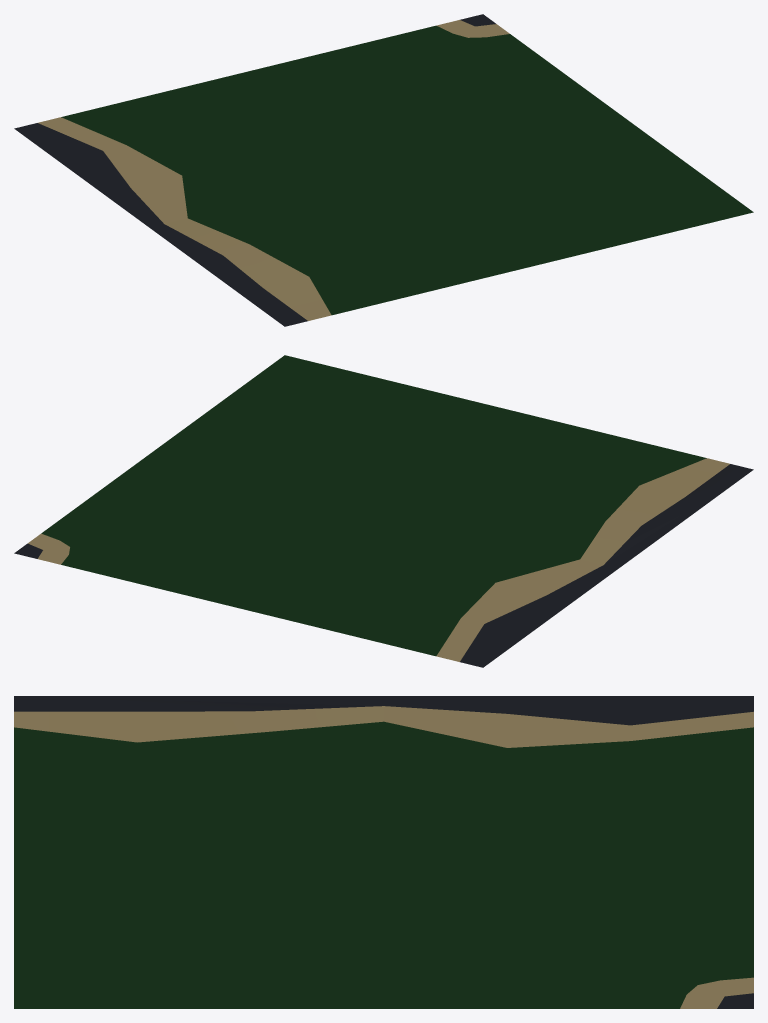
The model's file is terrain_plain_shore_intersect1.fbx.
3 renders of one model, top to bottom at view 1: azimuth 30°, elevation 25°; view 2: azimuth 150°, elevation 25°; view 3: azimuth 270°, elevation 25°, orthographic. The views are drawn at different scales.
Visible parts, largest first — view 1: terrain_plain_shore_intersect1; view 2: terrain_plain_shore_intersect1; view 3: terrain_plain_shore_intersect1.
Boxes of the visible parts, x1,y1,x2,y2 form: terrain_plain_shore_intersect1: [14, 14, 753, 326]; terrain_plain_shore_intersect1: [14, 355, 753, 667]; terrain_plain_shore_intersect1: [14, 696, 753, 1008].
Size of the model in its own units: 10 by 0.027 by 10.
